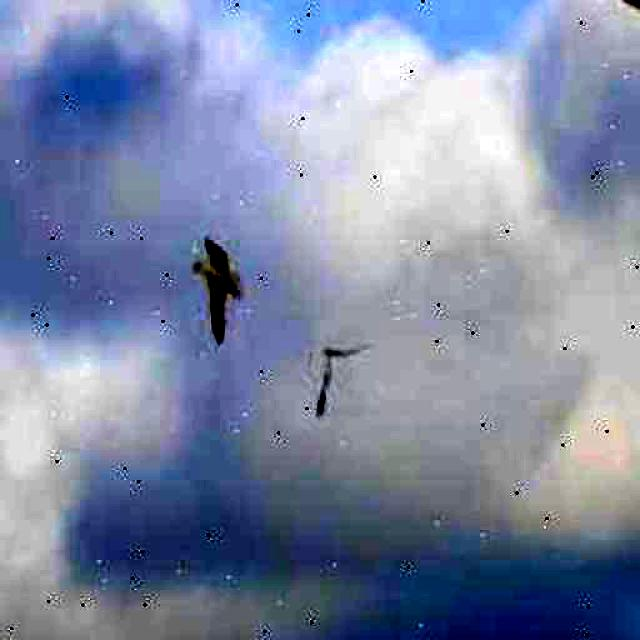airplane: (186, 232, 244, 345), (310, 342, 376, 419), (618, 0, 640, 76)
